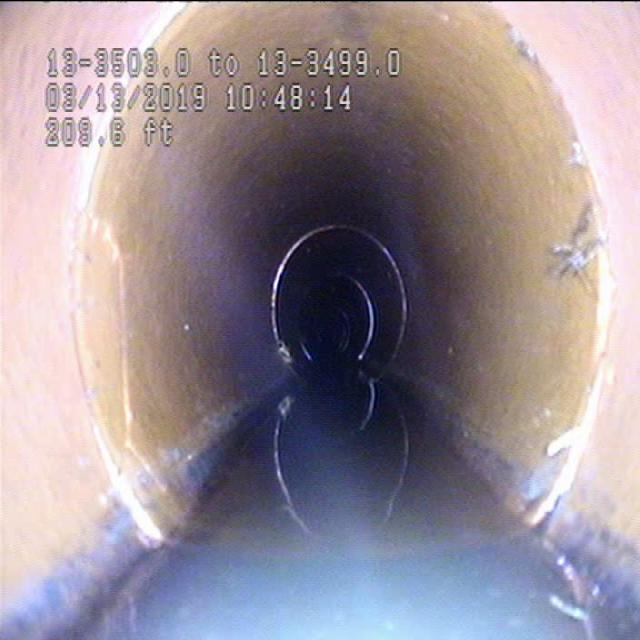Crack: (66, 222, 205, 496)
